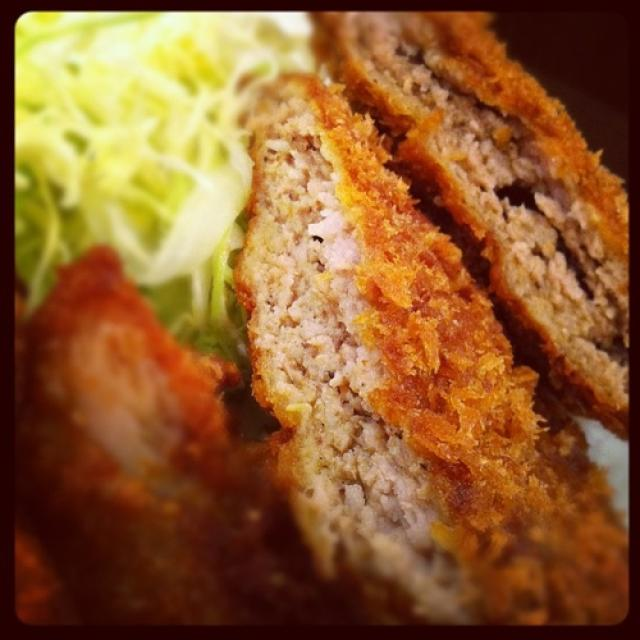炸货点心: (22, 21, 623, 616)
